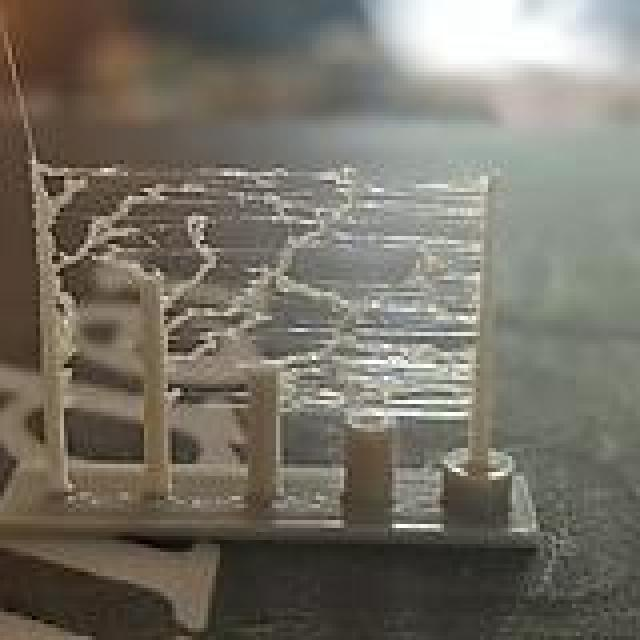Stringing: (271, 154, 483, 421), (45, 147, 282, 331)
